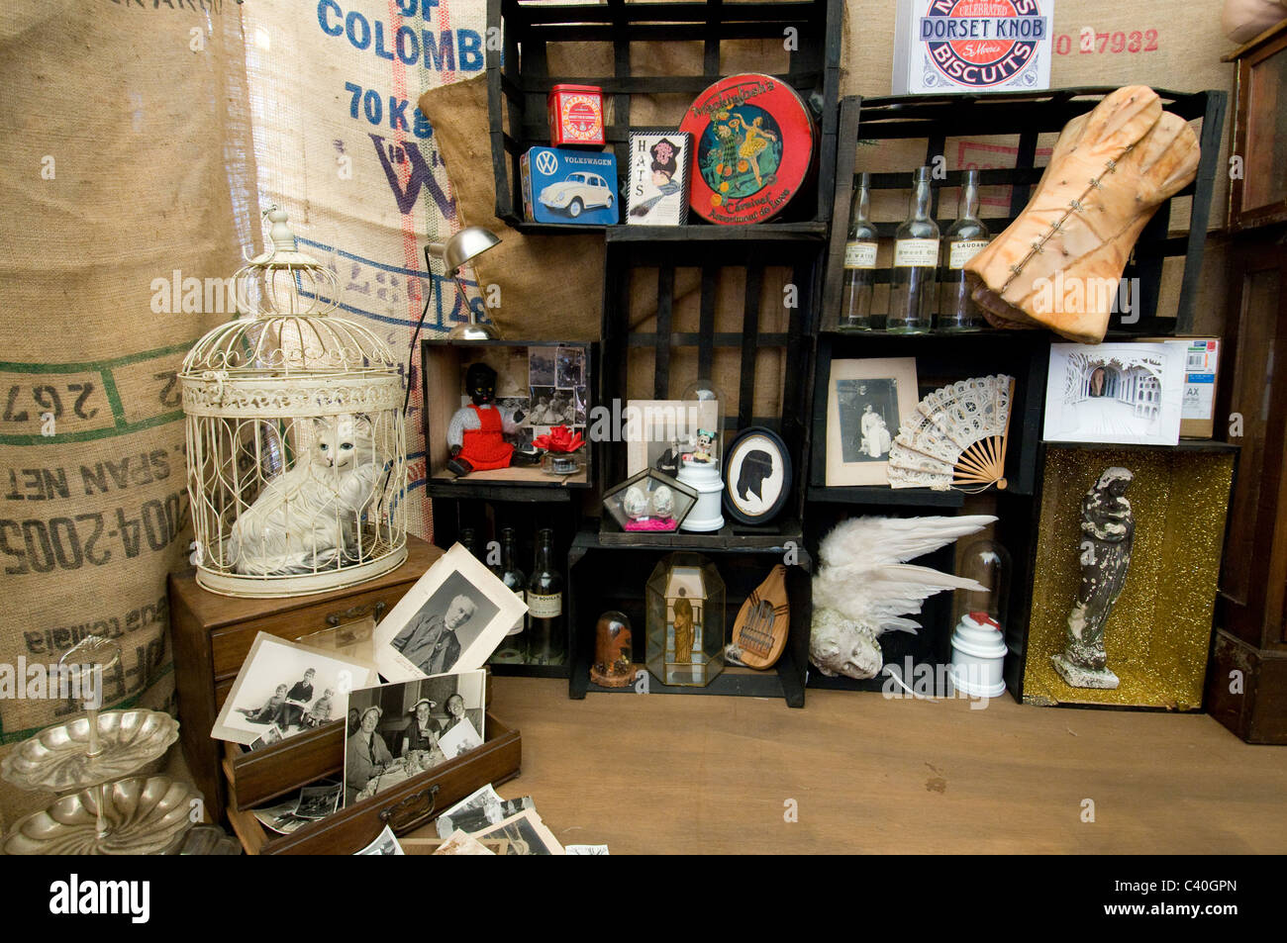not a gesture sign: (180, 216, 469, 671)
